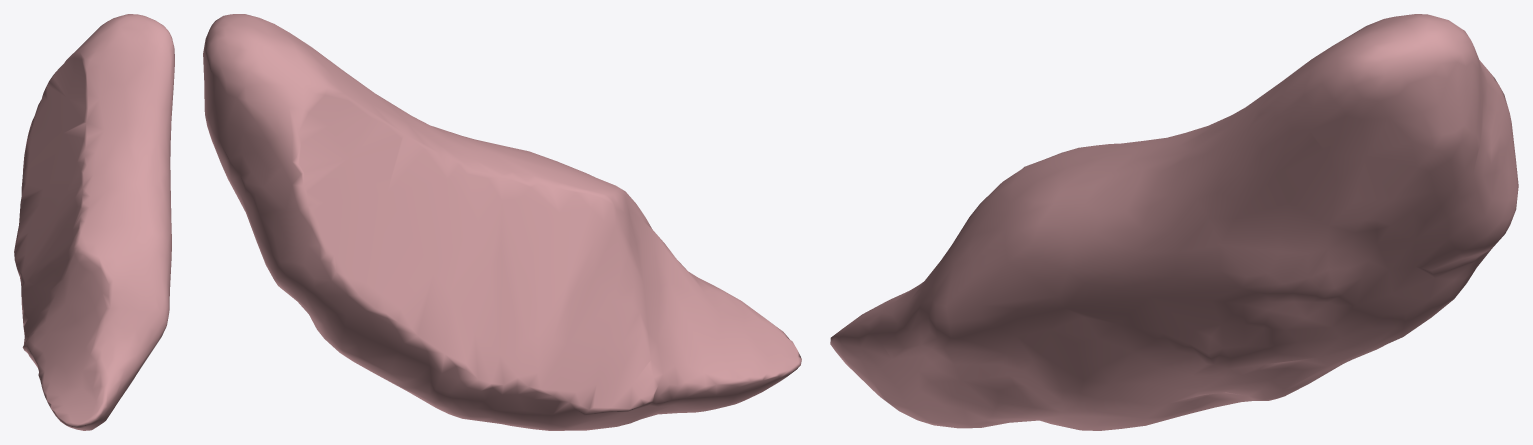
Rendered from fma59950_mm1167.glb.
The picture shows the model from 3 angles, left to right: view 1: azimuth 30°, elevation 25°; view 2: azimuth 150°, elevation 25°; view 3: azimuth 270°, elevation 25°; orthographic projection. The views are drawn at different scales.
Visible parts, largest first — view 1: FMA59950_MM1167; view 2: FMA59950_MM1167; view 3: FMA59950_MM1167.
Boxes of the visible parts, box(x1,y1,x2,y2) form: FMA59950_MM1167: box(14, 14, 174, 430); FMA59950_MM1167: box(203, 14, 801, 430); FMA59950_MM1167: box(830, 14, 1518, 430).
Bounding box in the file's own units: 0.0245 × 0.0284 × 0.0318.
